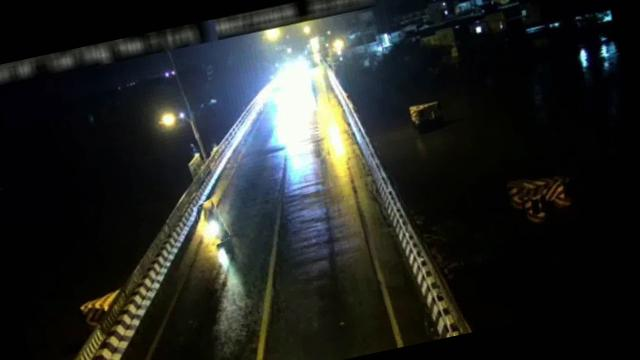Bike: (195, 198, 230, 247)
